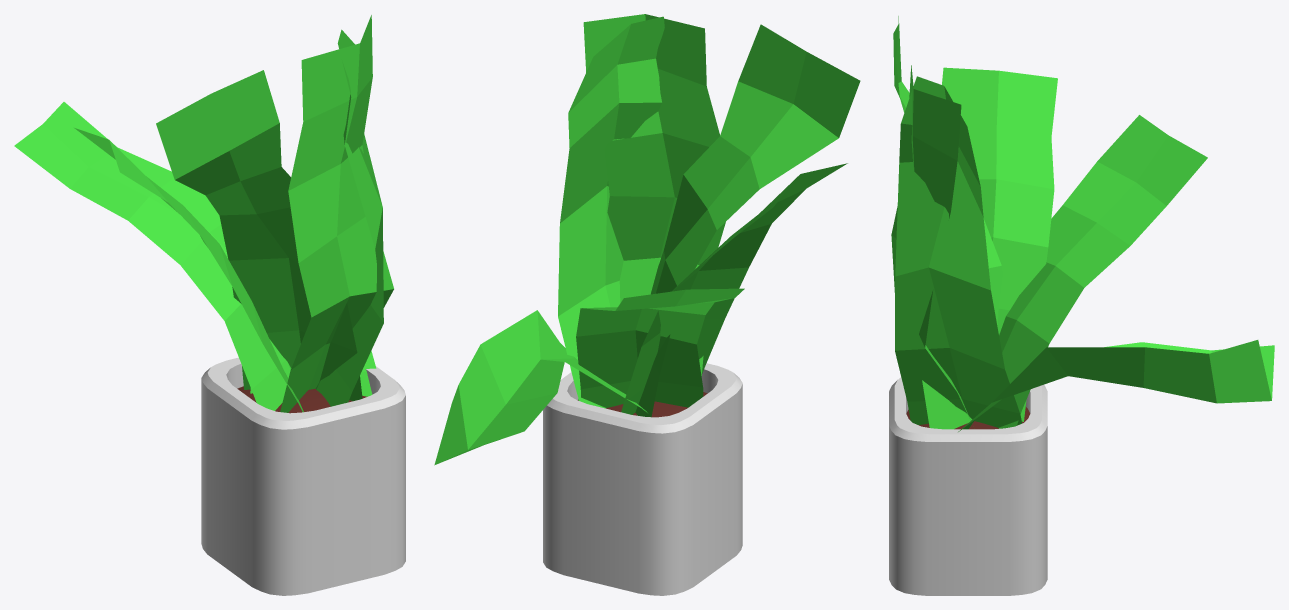
Rendered from Plant Corner.fbx.
The picture shows the model from 3 angles, left to right: view 1: azimuth 30°, elevation 25°; view 2: azimuth 150°, elevation 25°; view 3: azimuth 270°, elevation 25°; orthographic projection. The views are drawn at different scales.
Parts seen in each view (by area): view 1: Plant; view 2: Plant; view 3: Plant.
Boxes of the visible parts, box(x1,y1,x2,y2) form: Plant: box(14, 15, 405, 595); Plant: box(434, 14, 860, 595); Plant: box(889, 16, 1274, 595).
Size of the model in its own units: 1.65 by 3.09 by 2.19.
